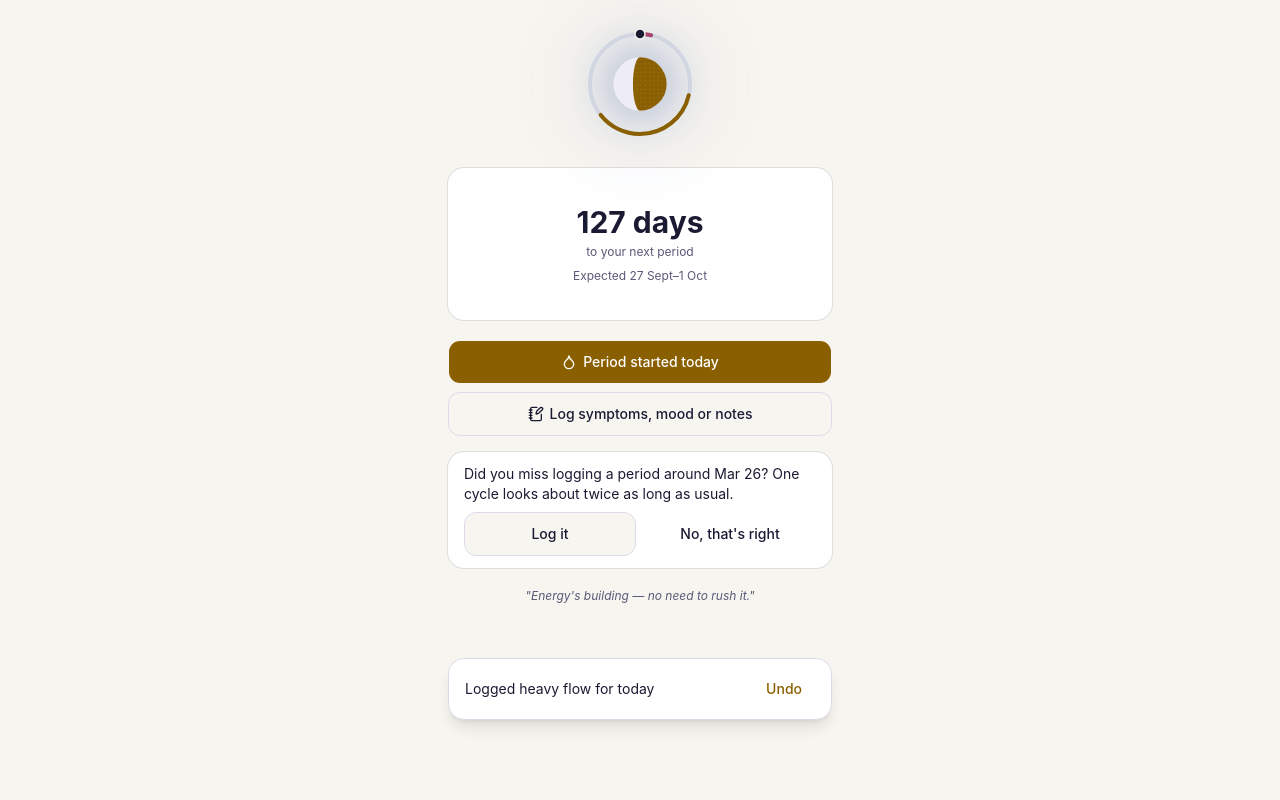
Test: Home — missed period prompt (T78) › asks about a likely unlogged period and lets the user dismiss it
Expected: the text "Did you miss logging a period around" is shown, [464,465,714,482]
Click the button "No, that's right" at (730, 534), box [644,512,816,556]
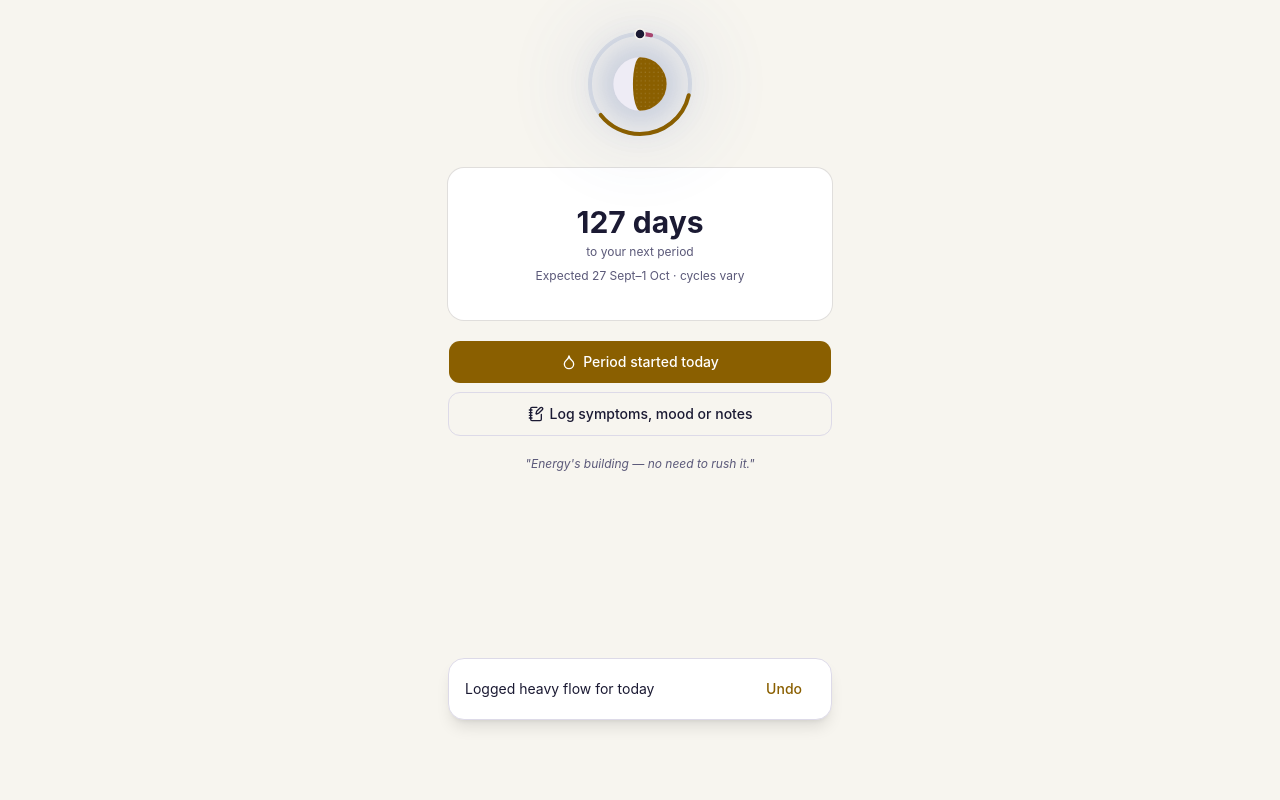
Now the text "Did you miss logging" is gone
